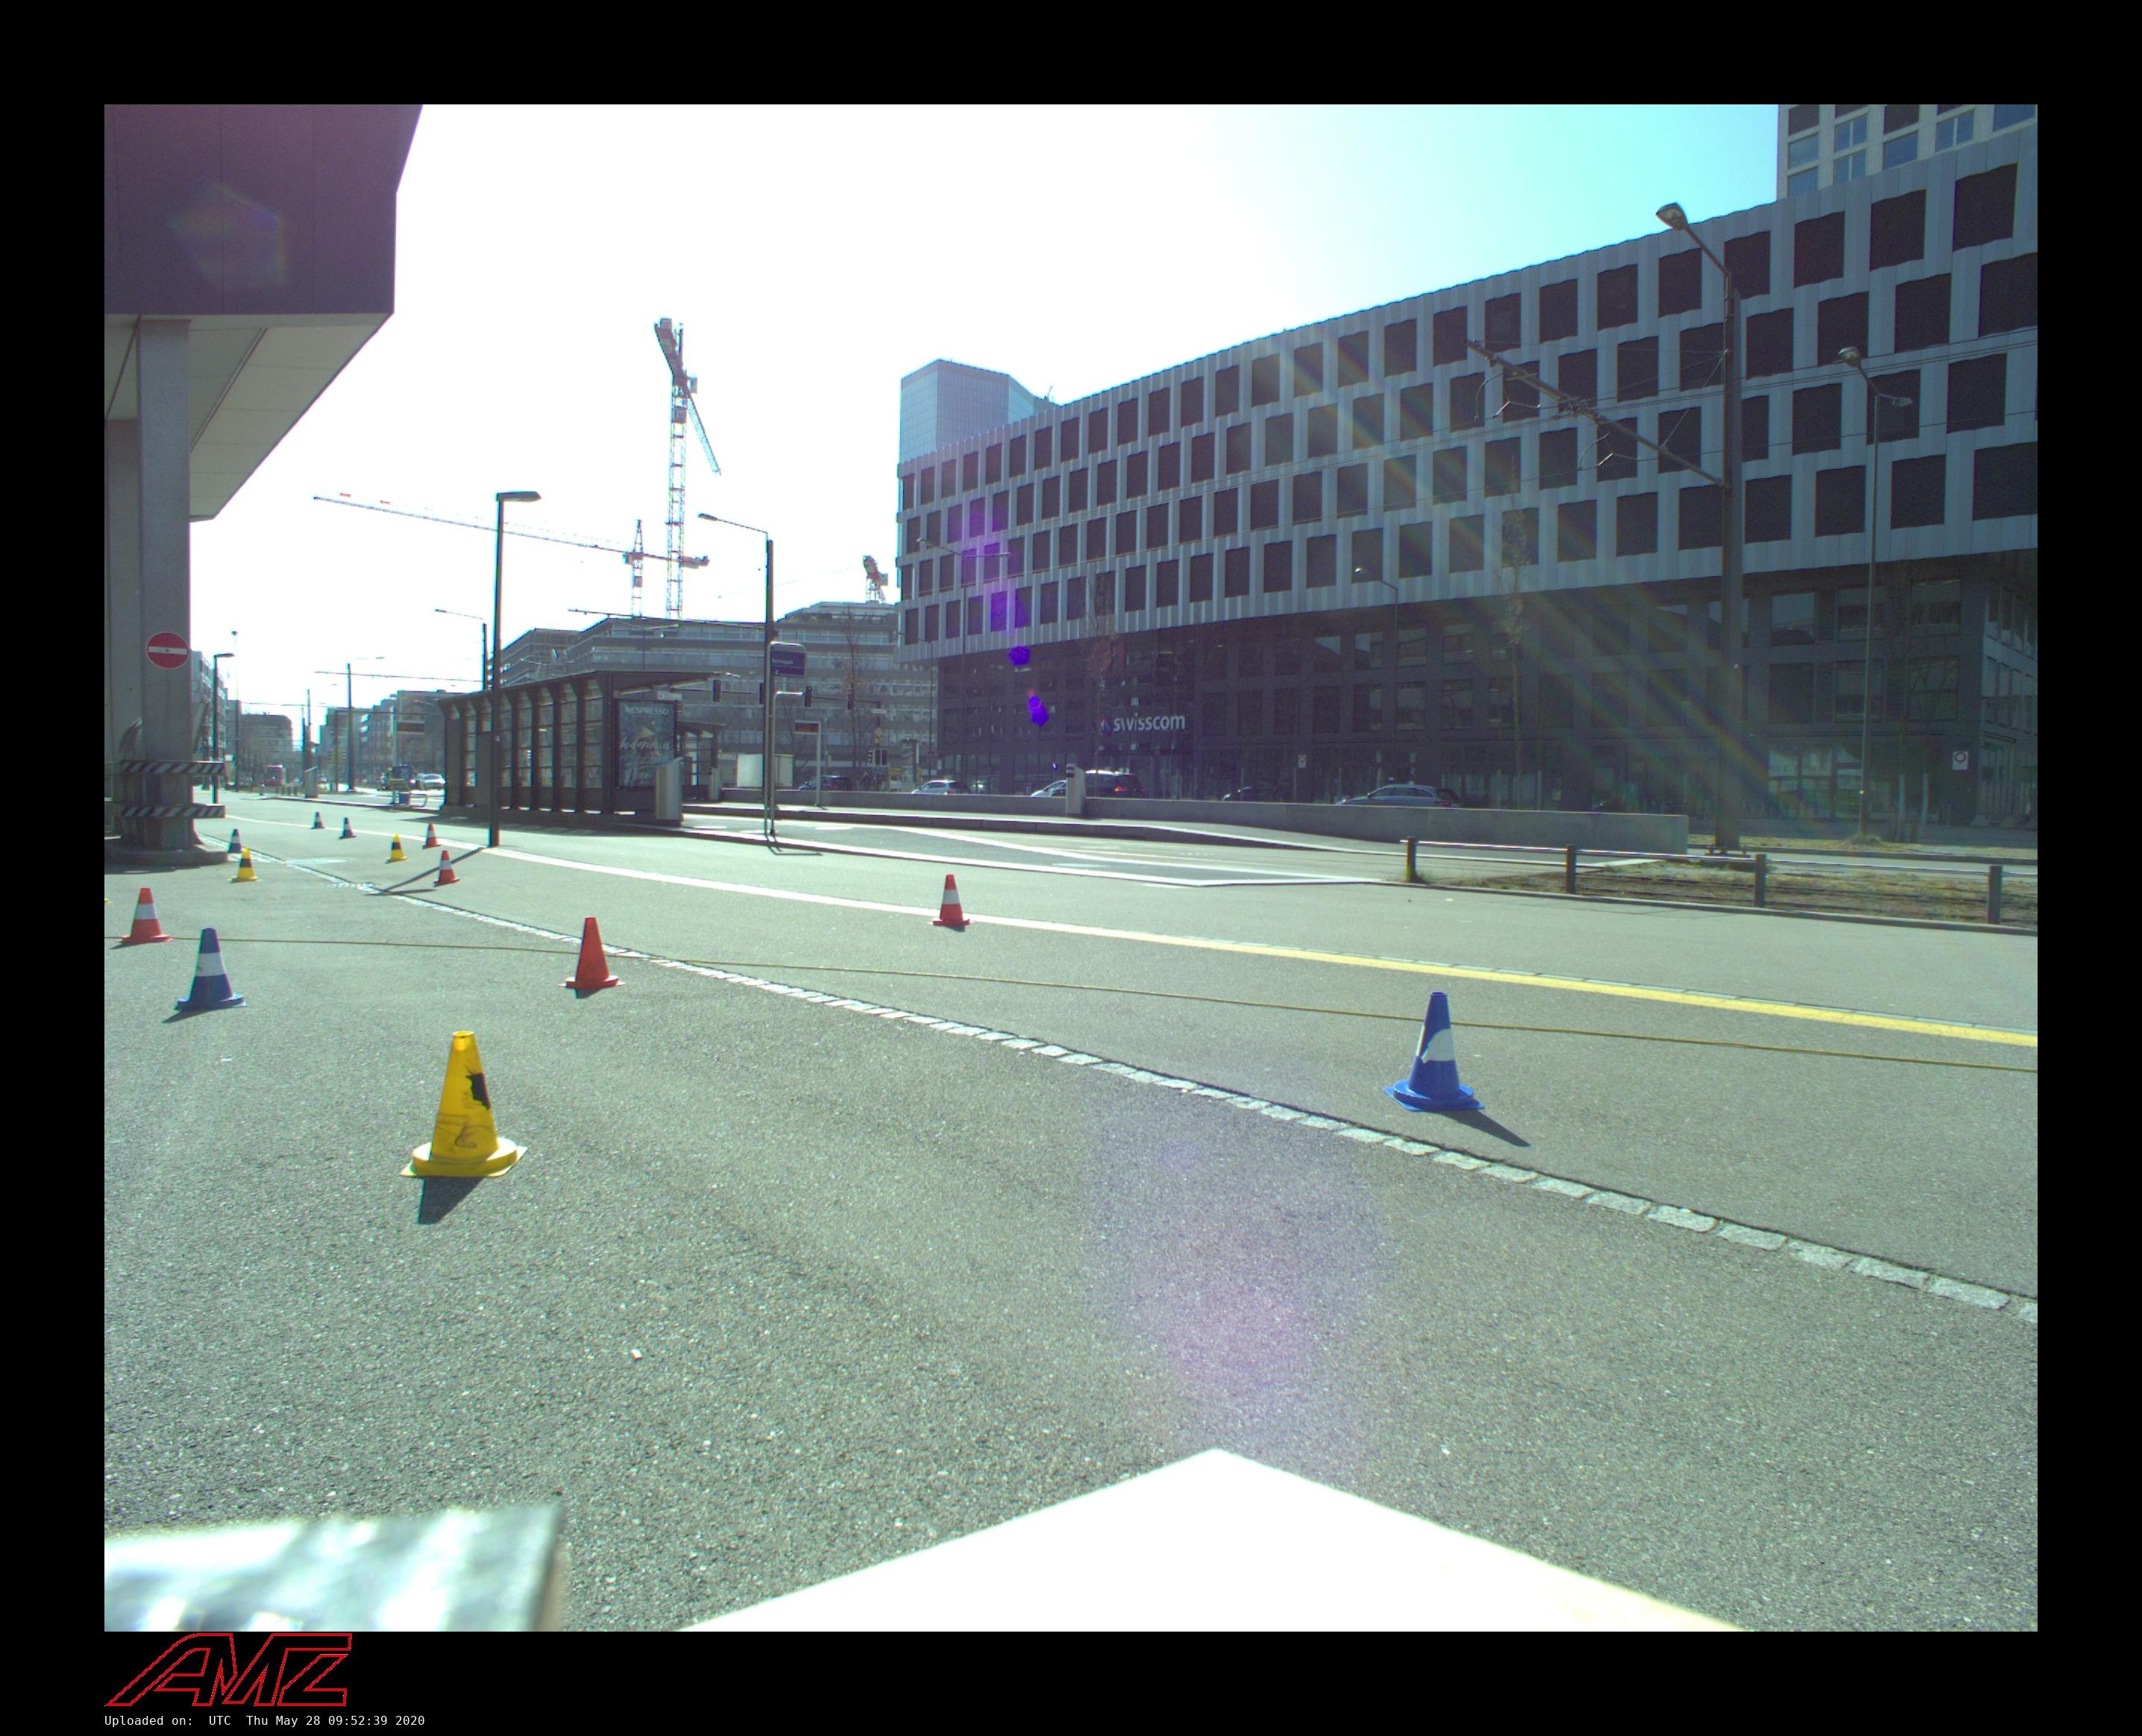blue_cone: (1382, 990, 1486, 1111), (175, 928, 248, 1010), (227, 829, 244, 854), (338, 817, 356, 840), (312, 811, 326, 829)
orange_cone: (558, 918, 627, 987), (115, 887, 175, 944), (927, 875, 976, 926), (434, 850, 461, 884), (423, 824, 441, 849)
yellow_cone: (400, 1031, 526, 1178), (229, 847, 262, 882), (386, 833, 409, 863)
